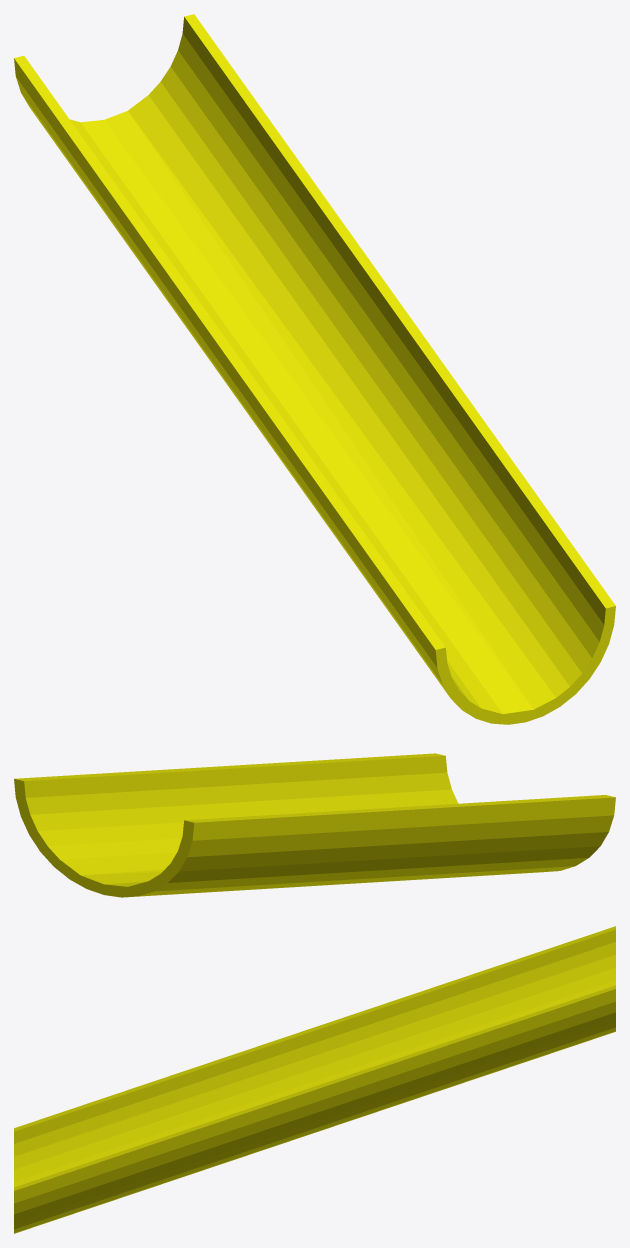
Rendered from half pipe long incline collision.fbx.
The picture shows the model from 3 angles, top to bottom: view 1: azimuth 30°, elevation 25°; view 2: azimuth 150°, elevation 25°; view 3: azimuth 270°, elevation 25°; orthographic projection. The views are drawn at different scales.
Visible parts, largest first — view 1: half pipe incline collision; view 2: half pipe incline collision; view 3: half pipe incline collision.
Boxes of the visible parts, x1,y1,x2,y2 form: half pipe incline collision: (14, 14, 615, 724); half pipe incline collision: (14, 753, 615, 897); half pipe incline collision: (14, 926, 615, 1233).
Bounding box in the file's own units: 200 × 400 × 810.
